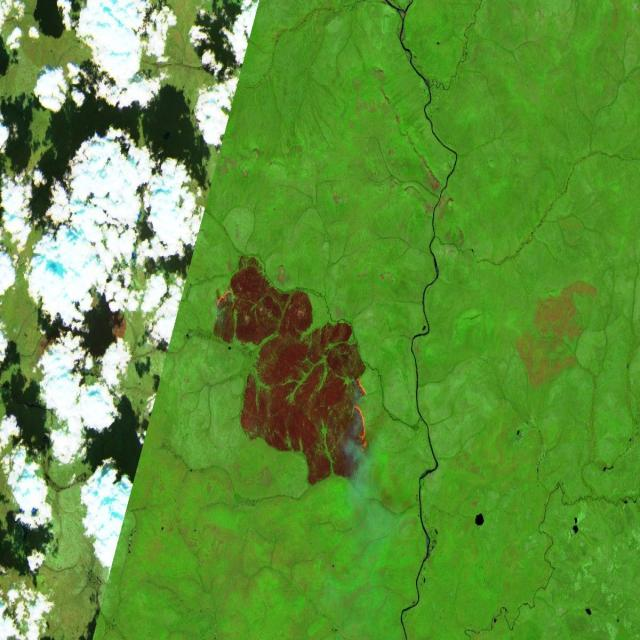fire: (339, 364, 376, 459), (208, 277, 238, 331)
